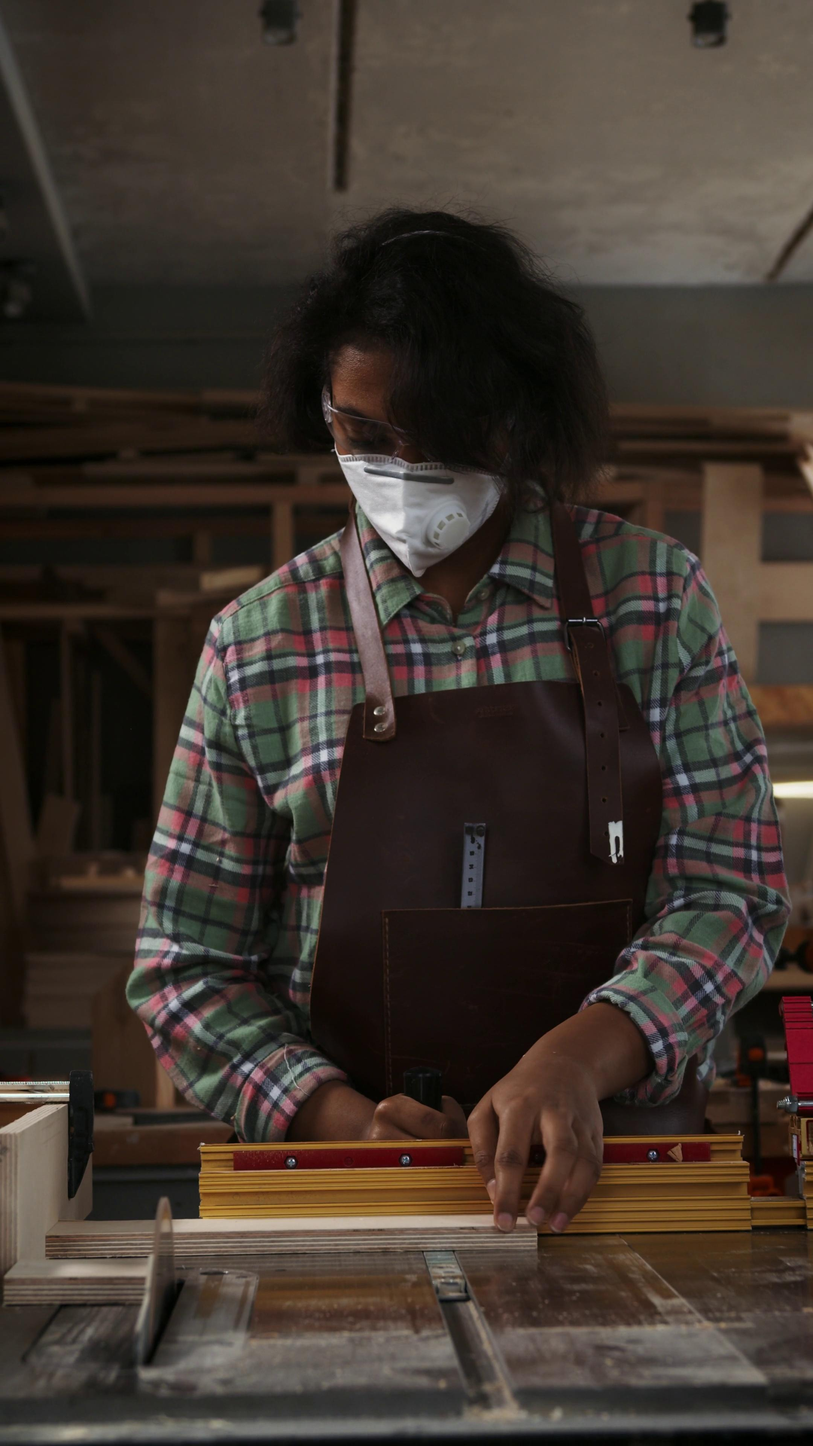mask: (330, 449, 507, 578)
person: (124, 207, 793, 1241)
